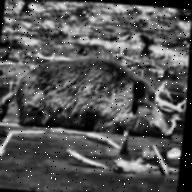boar: (0, 38, 190, 159)
